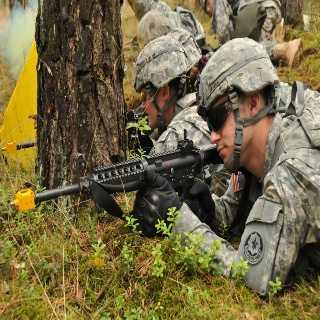rifle: (14, 128, 226, 212)
